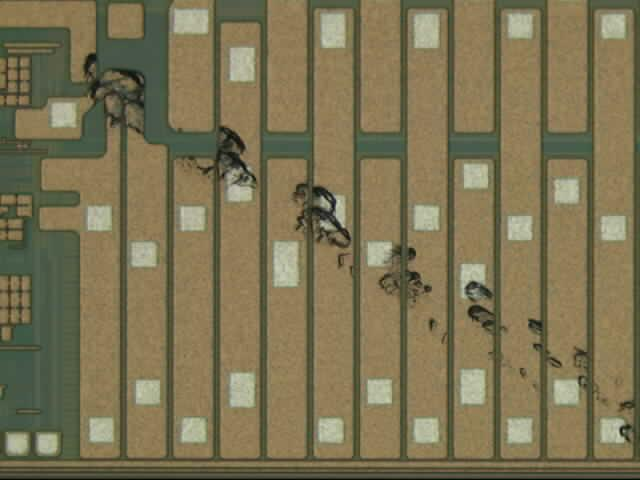SCRATCH: (82, 51, 640, 455)
